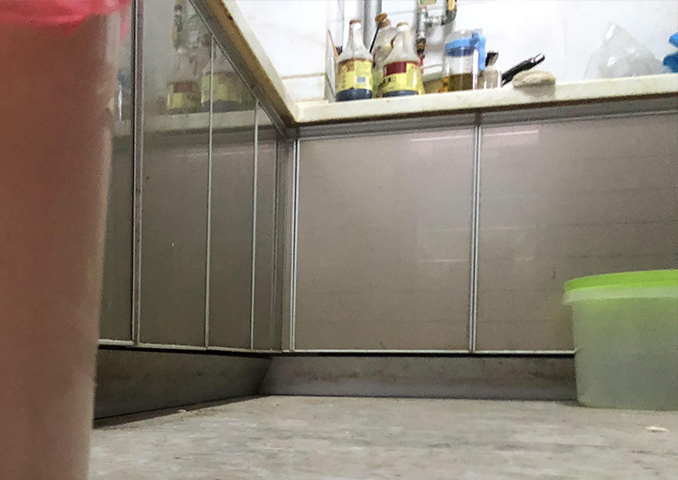cabinet: (288, 82, 678, 397), (114, 1, 294, 417)
trashcan: (560, 268, 674, 411)
